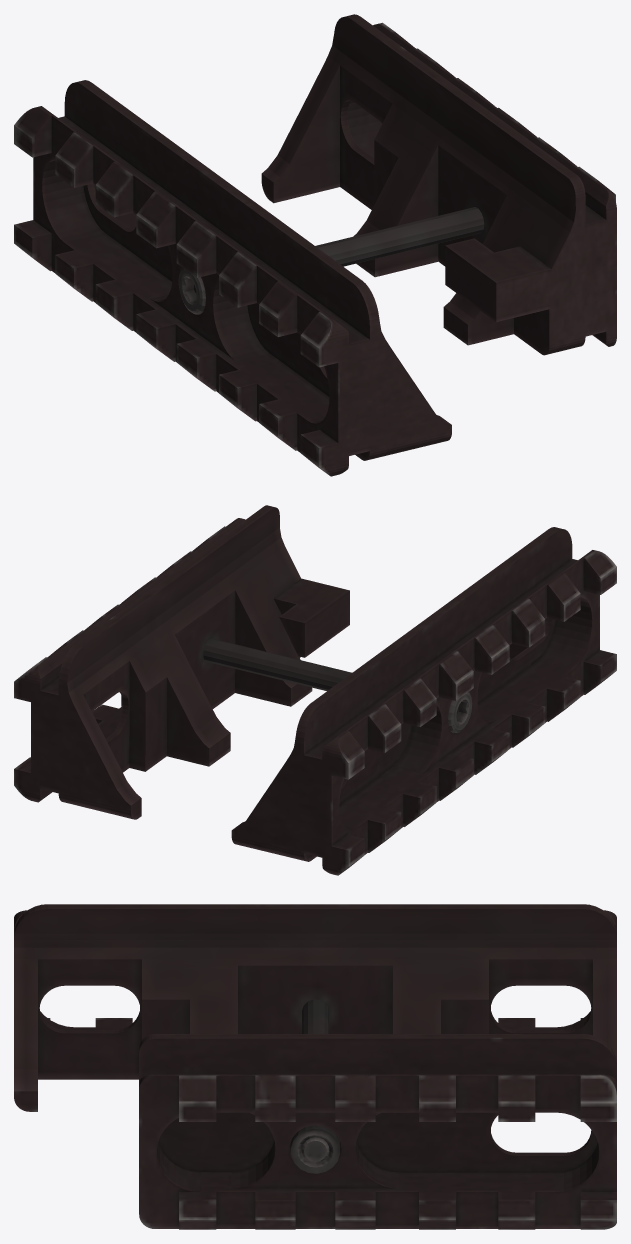
3 renders of one model, top to bottom at view 1: azimuth 30°, elevation 25°; view 2: azimuth 150°, elevation 25°; view 3: azimuth 270°, elevation 25°, orthographic. The views are drawn at different scales.
Parts seen in each view (by area): view 1: TW_67069d02ad91f3a63c0bc2b0_PZ_Import; view 2: TW_67069d02ad91f3a63c0bc2b0_PZ_Import; view 3: TW_67069d02ad91f3a63c0bc2b0_PZ_Import.
Part boxes in pixels (x1,y1,x2,y2): TW_67069d02ad91f3a63c0bc2b0_PZ_Import: [14, 14, 616, 476]; TW_67069d02ad91f3a63c0bc2b0_PZ_Import: [14, 505, 616, 875]; TW_67069d02ad91f3a63c0bc2b0_PZ_Import: [14, 904, 616, 1229].
Bounding box in the file's own units: 0.0314 × 0.0436 × 0.014.
1 material, 1 textured.
